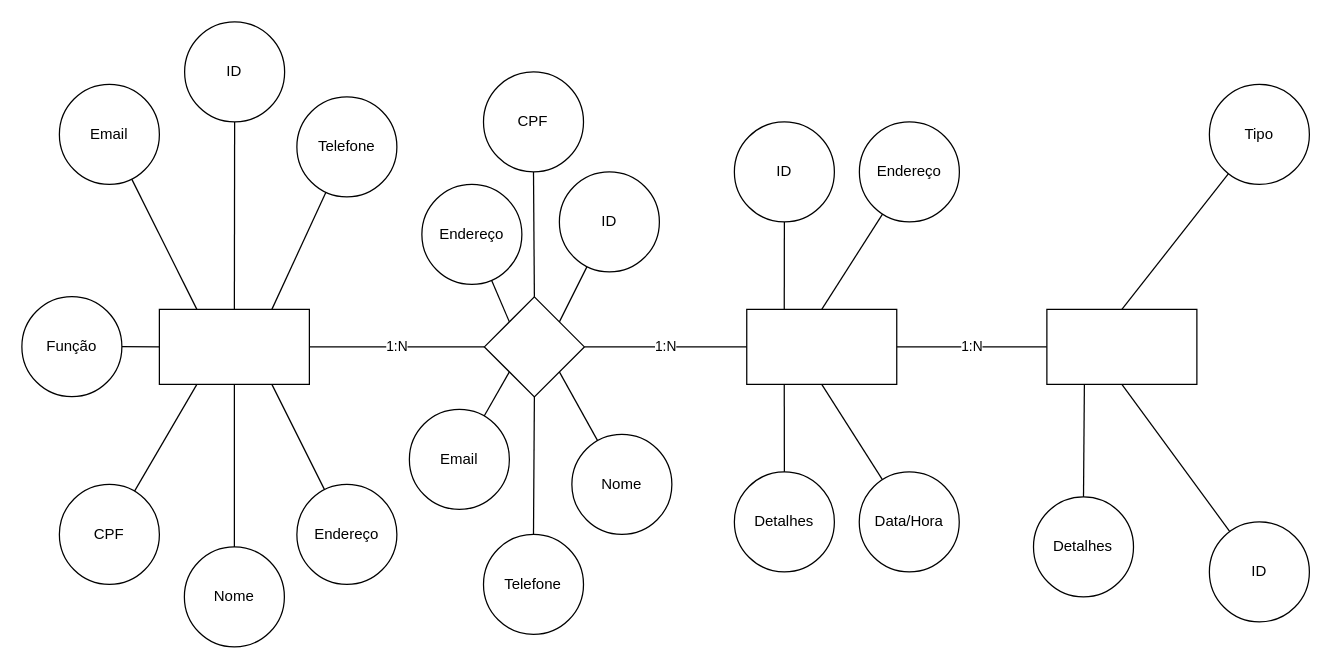
Image size: 1331x669. Some labels were removed from this diagram. Here are the shapes that lost their labels. From the top down, the centre of each, then its label:
the point at 233,346: Técnico
the point at 533,346: Cliente
the point at 821,346: Chamado
the point at 1121,346: Categoria_Chamado
